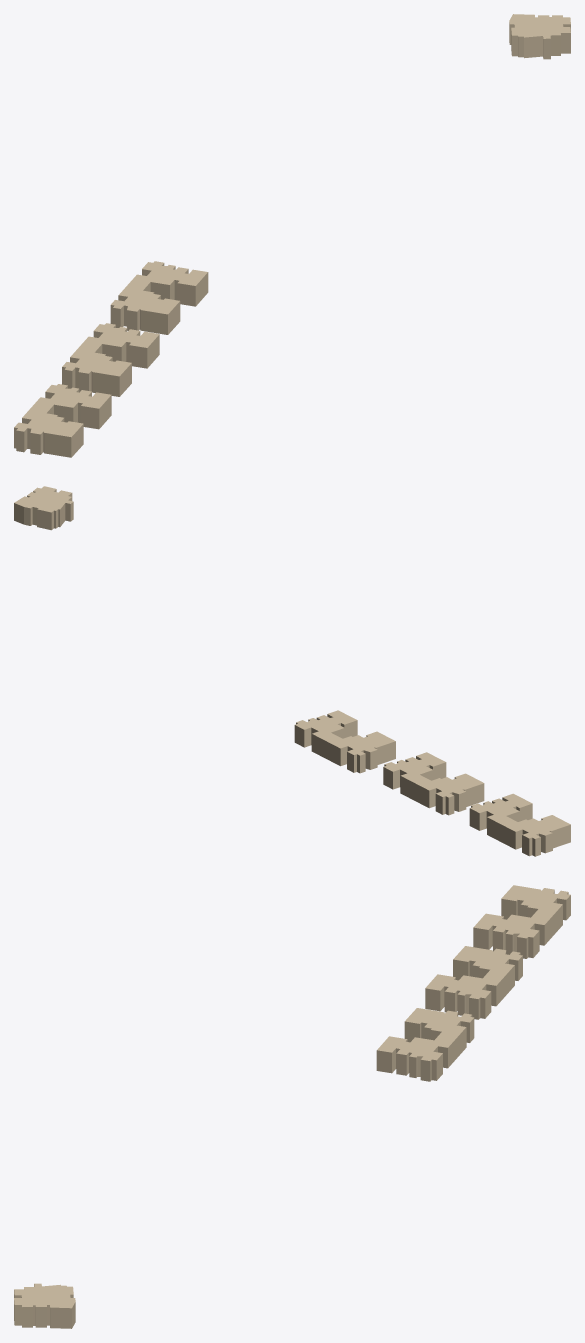
Rendered from 9_6-estimated-coarse.glb.
3 renders of one model, top to bottom at view 1: azimuth 90°, elevation 25°; view 2: azimuth 150°, elevation 25°; view 3: azimuth 270°, elevation 25°, orthographic. The views are drawn at different scales.
Size of the model in its own units: 528 by 12 by 294.
